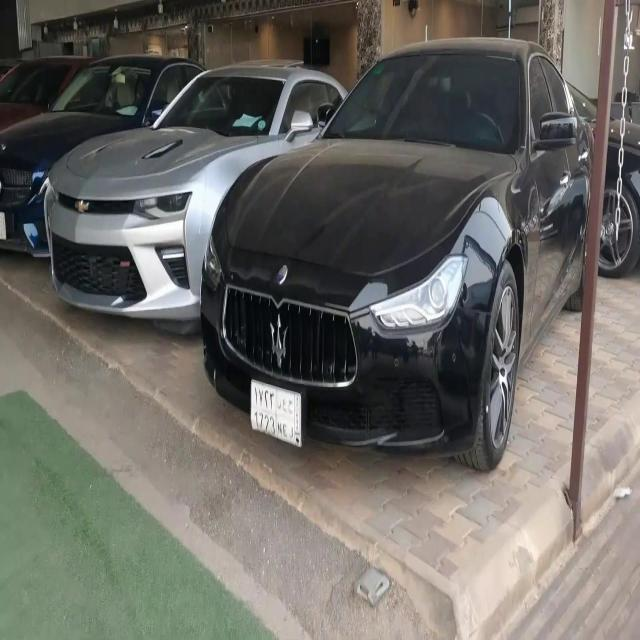license_plate: (245, 370, 304, 451)
